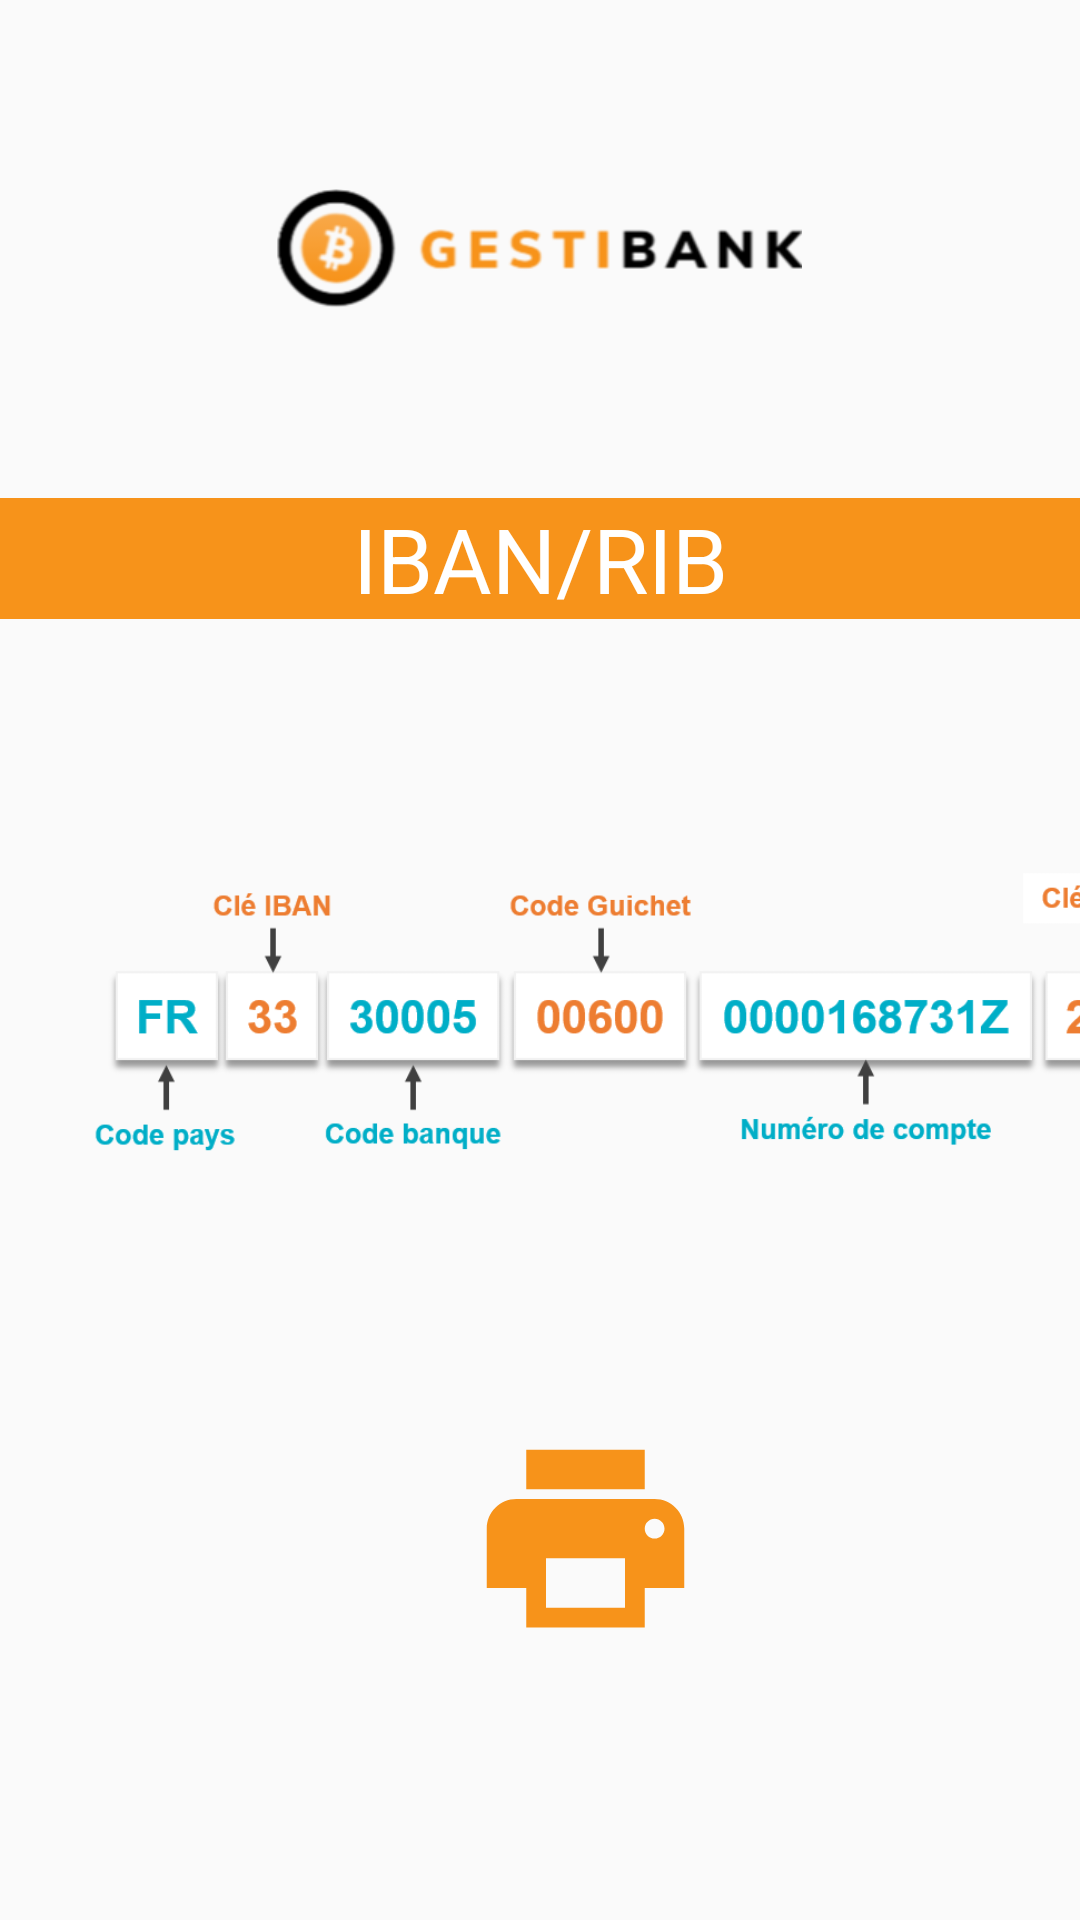

Where to tap for icons on this 1080 x 1920 app screen, as (x=x, y=y):
print: (x=585, y=1538)
